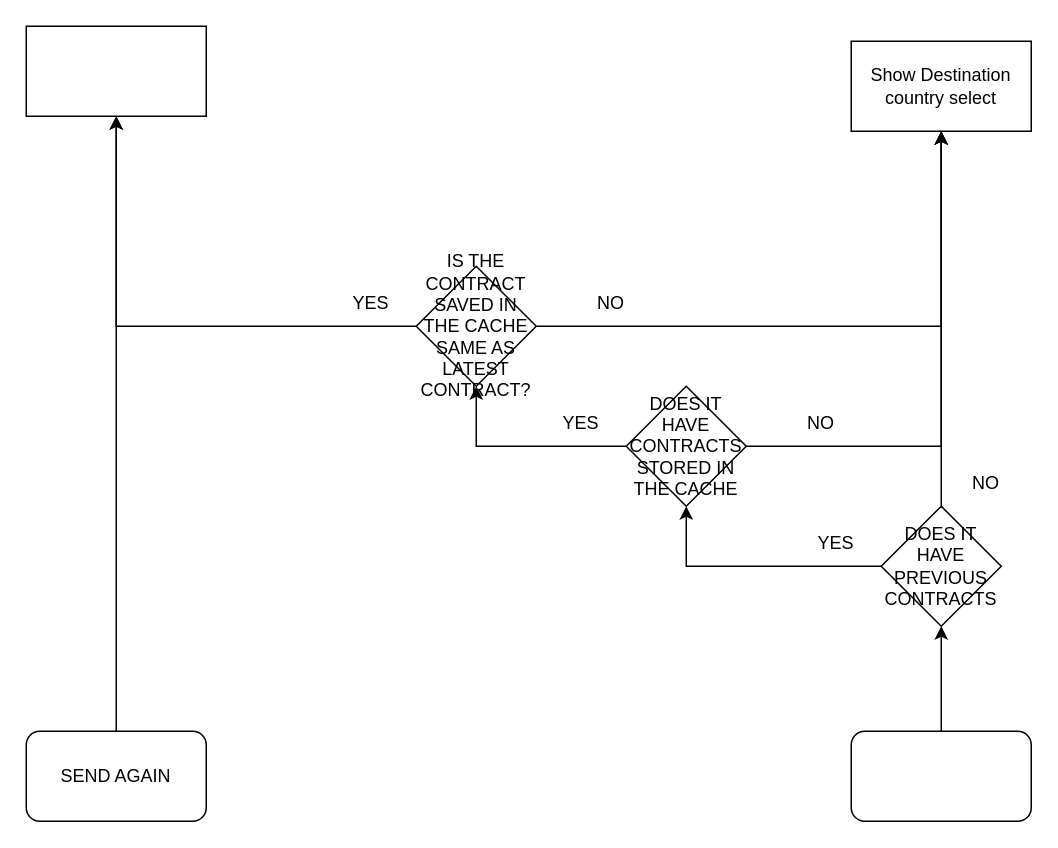
Some shapes in this 1058 by 848 pixel diagram are drawn without their labels. Here are the shapes that lost their labels. From the top down, the centre of each, then its label:
the point at 115,70: Show Quote Screen
the point at 940,775: SEND MONEY FLOW
